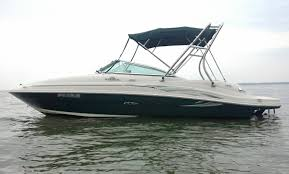boat: (6, 22, 282, 121)
